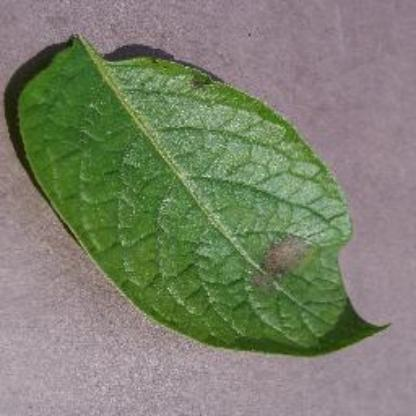Late-Blight: (12, 29, 392, 355)
